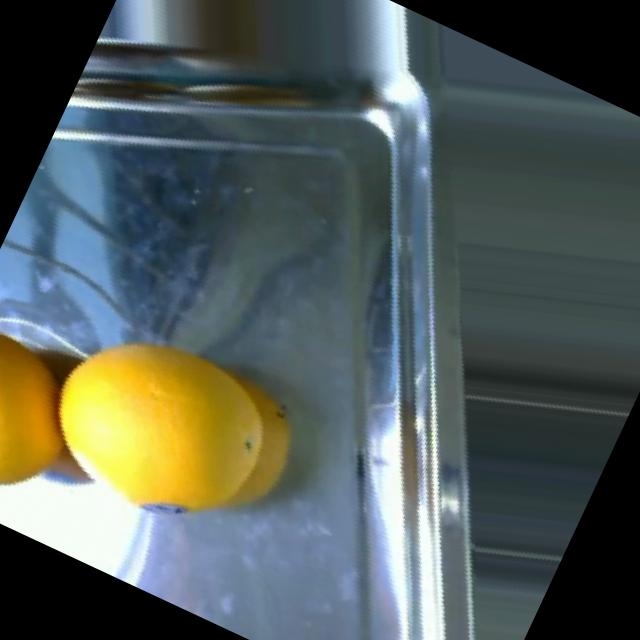Fruit: (0, 299, 142, 550)
